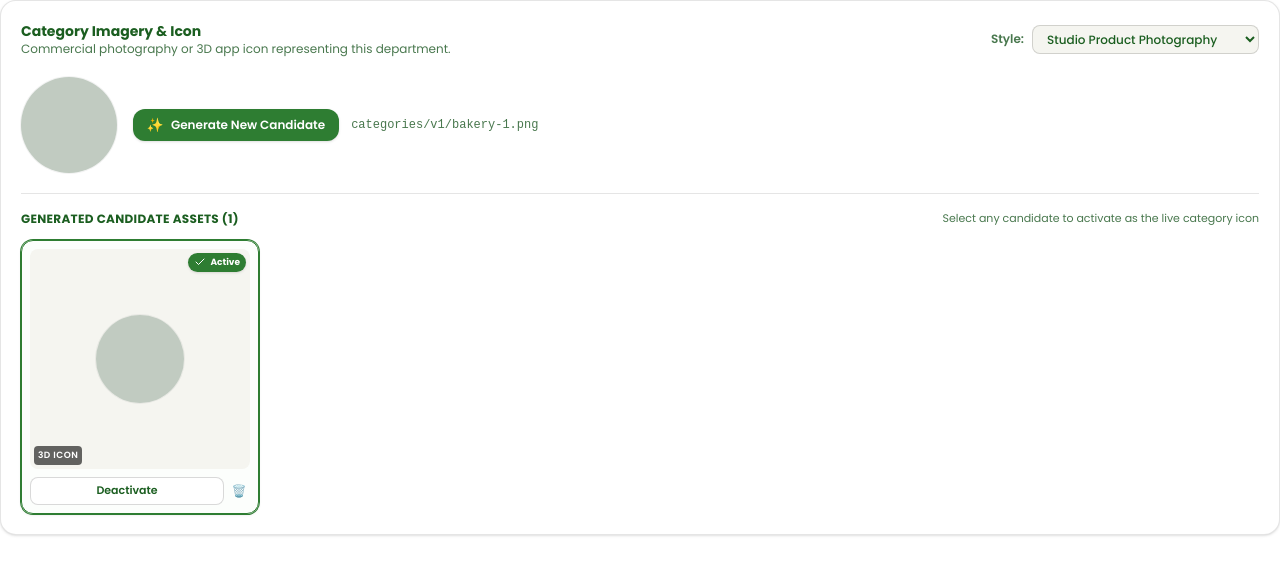
Test: CategoryImageManager (#1288 R5) › deactivates the active candidate and shows the built-in artwork
Click the button "Deactivate" at (127, 491), box [30,477,224,505]
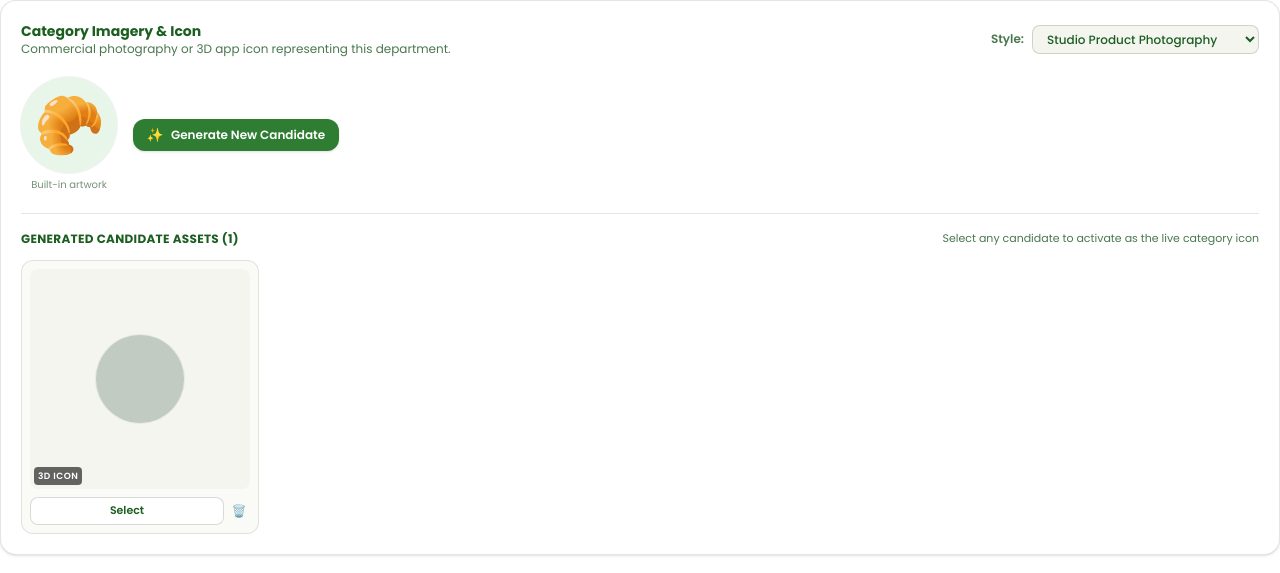
expect the button "Deactivate" is gone: met
expect the text "Built-in artwork" is shown: met, box [31,177,107,193]
